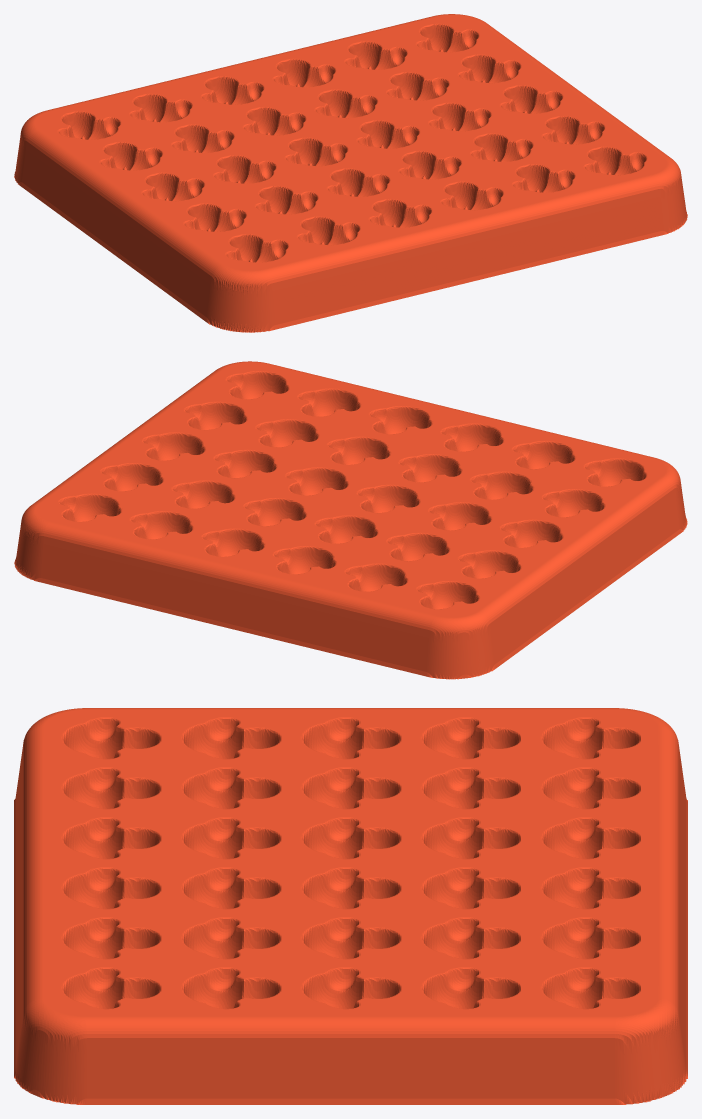
File: mold.glb
3 views of the same model, one above another, from view 1: azimuth 30°, elevation 25°; view 2: azimuth 150°, elevation 25°; view 3: azimuth 270°, elevation 25° (orthographic). The views are drawn at different scales.
Visible parts, largest first — view 1: geometry_0; view 2: geometry_0; view 3: geometry_0.
Part boxes in pixels (x1,y1,x2,y2): geometry_0: (14, 14, 687, 332); geometry_0: (14, 361, 687, 679); geometry_0: (14, 708, 687, 1104).
Size of the model in its own units: 0.0968 by 0.0103 by 0.0832.
